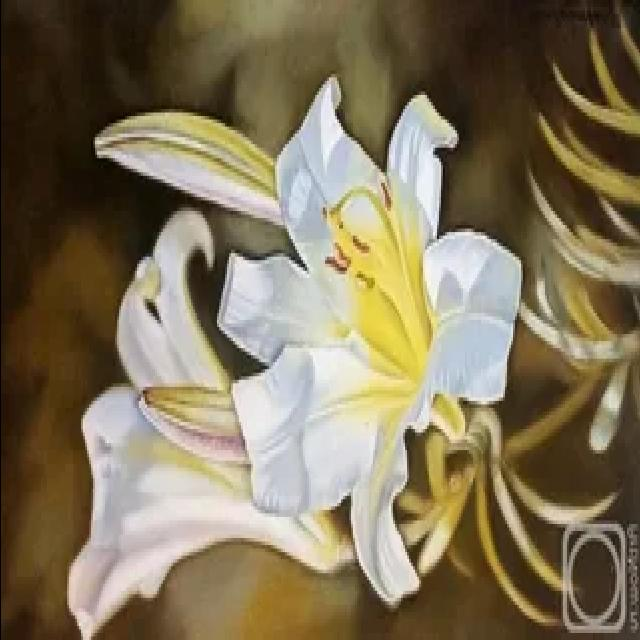lily: (204, 57, 524, 624)
